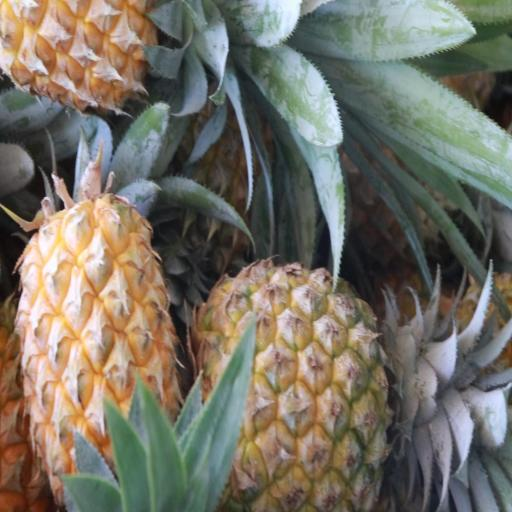Pineapple - v8 v1: (198, 260, 408, 512), (19, 196, 182, 512)
